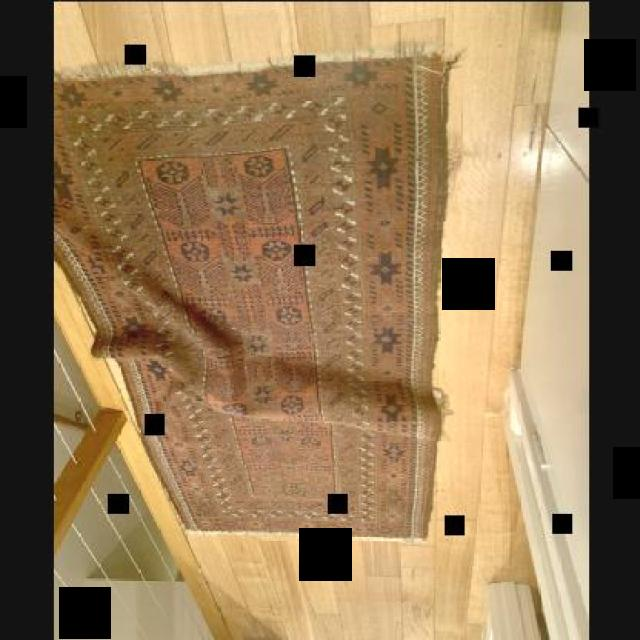unauthorized: (52, 44, 462, 538)
